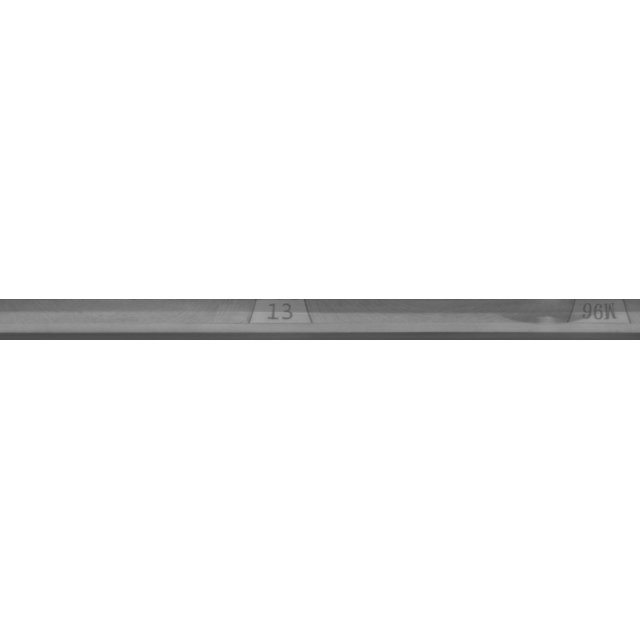mohao: (504, 270, 640, 370)
xuehao: (180, 270, 380, 370)
